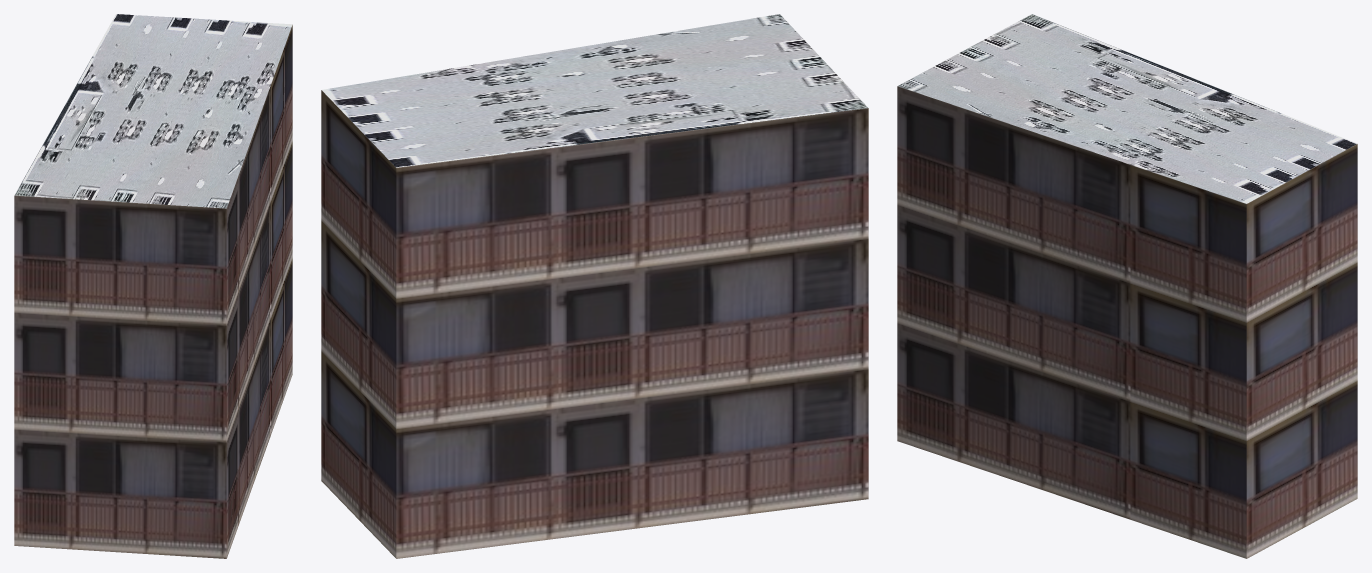
File: ResTex__991.fbx
3 renders of one model, left to right at view 1: azimuth 30°, elevation 25°; view 2: azimuth 150°, elevation 25°; view 3: azimuth 270°, elevation 25°, orthographic. The views are drawn at different scales.
Visible parts, largest first — view 1: CityEngineMaterial_6_m, CityEngineMaterial_4_m; view 2: CityEngineMaterial_6_m, CityEngineMaterial_4_m; view 3: CityEngineMaterial_6_m, CityEngineMaterial_4_m.
Part boxes in pixels (x1,y1,x2,y2): CityEngineMaterial_6_m: [14, 25, 292, 558]; CityEngineMaterial_4_m: [14, 14, 292, 208]; CityEngineMaterial_6_m: [321, 90, 868, 558]; CityEngineMaterial_4_m: [322, 14, 867, 167]; CityEngineMaterial_6_m: [897, 86, 1357, 558]; CityEngineMaterial_4_m: [897, 14, 1356, 203].
Size of the model in its own units: 10.33 by 9 by 10.57.
2 materials, 2 textured.
